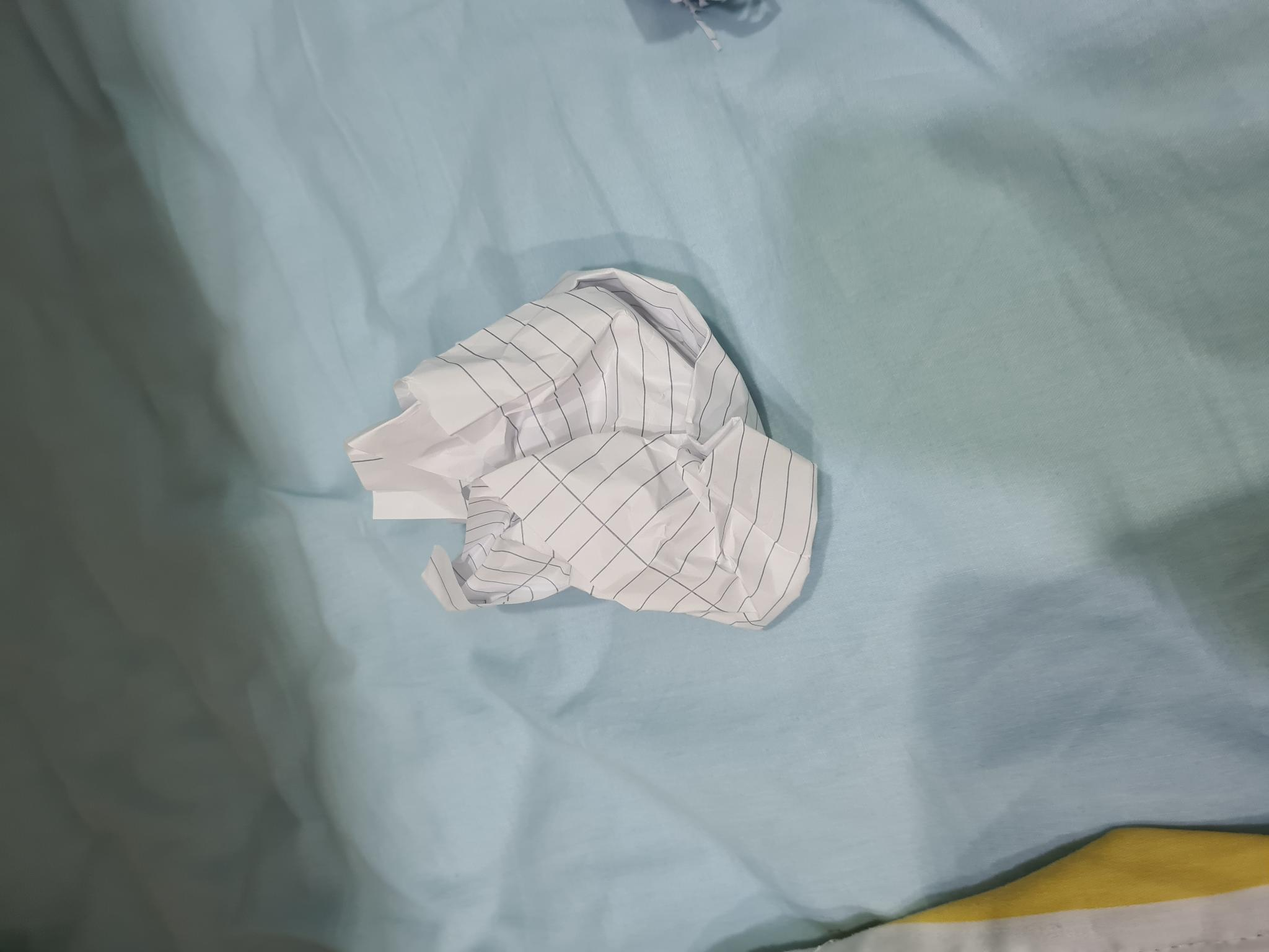Kertas: (342, 444, 614, 714)
